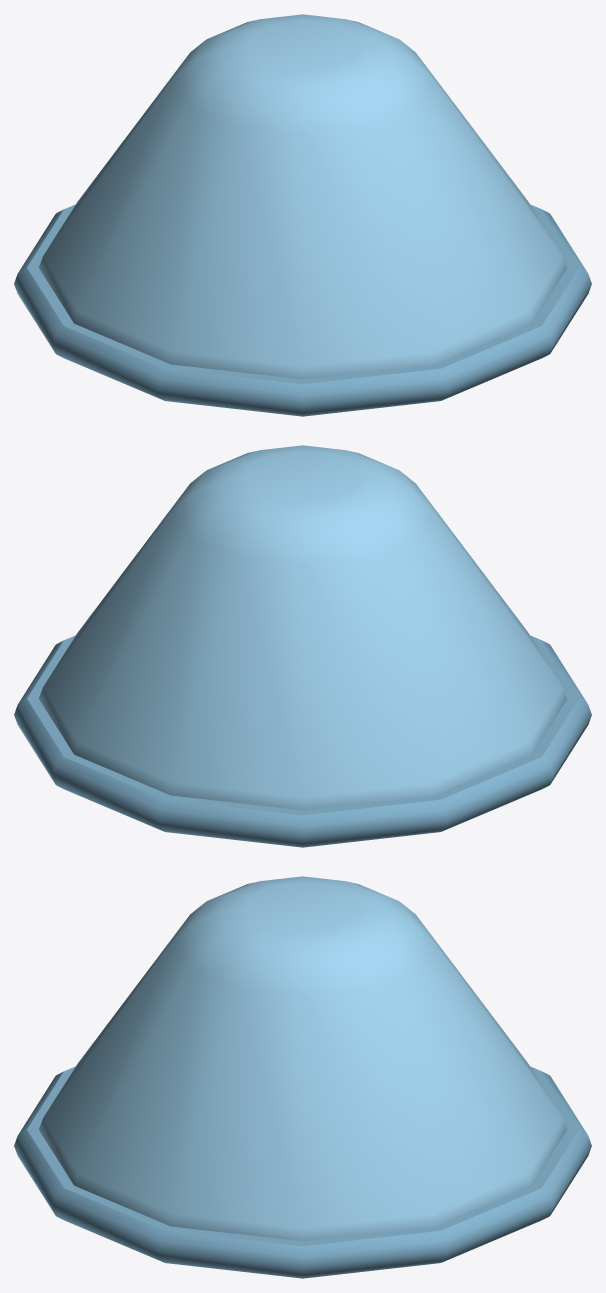
The model's file is Top_Poncho.fbx.
The picture shows the model from 3 angles, top to bottom: view 1: azimuth 30°, elevation 25°; view 2: azimuth 150°, elevation 25°; view 3: azimuth 270°, elevation 25°; orthographic projection.
Parts seen in each view (by area): view 1: Poncho, Poncho_Trim; view 2: Poncho, Poncho_Trim; view 3: Poncho, Poncho_Trim.
Part boxes in pixels (box(x1,y1,x2,y2)): Poncho: box(39, 14, 566, 379); Poncho_Trim: box(14, 204, 591, 416); Poncho: box(39, 445, 566, 810); Poncho_Trim: box(14, 635, 591, 847); Poncho: box(39, 876, 566, 1241); Poncho_Trim: box(14, 1066, 591, 1278).
Size of the model in its own units: 77 by 37.38 by 77.
